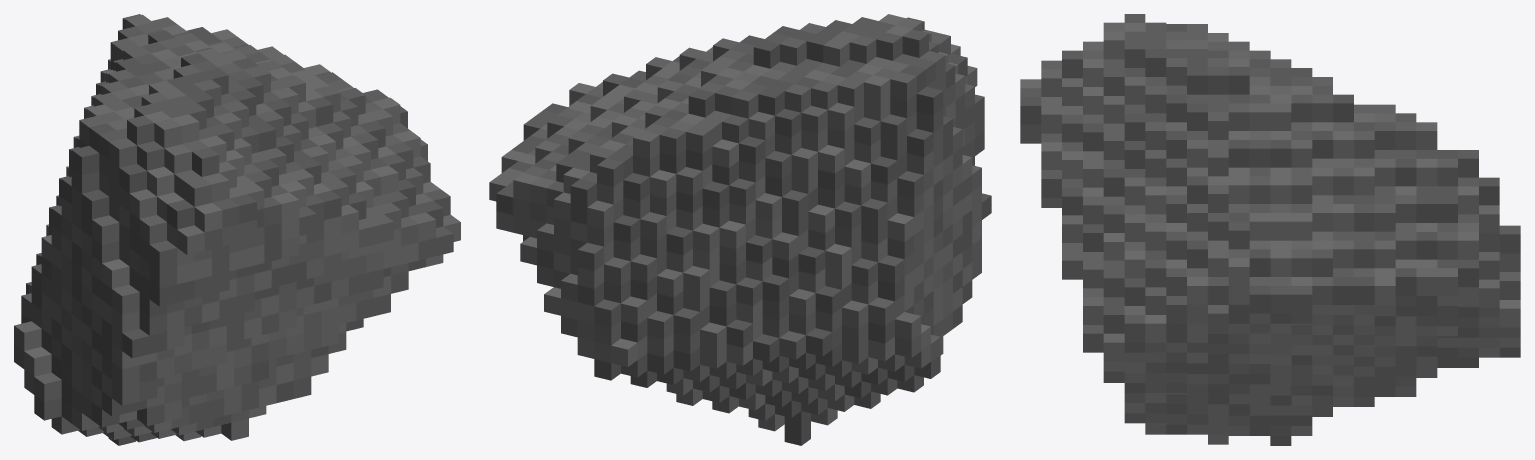
File: Asteroid_A6.fbx
The picture shows the model from 3 angles, left to right: view 1: azimuth 30°, elevation 25°; view 2: azimuth 150°, elevation 25°; view 3: azimuth 270°, elevation 25°; orthographic projection. The views are drawn at different scales.
Parts seen in each view (by area): view 1: T1-5; view 2: T1-5; view 3: T1-5.
Boxes of the visible parts, <box> form: T1-5: <box>14,14,460,445</box>; T1-5: <box>489,14,991,445</box>; T1-5: <box>1020,14,1520,445</box>.
Size of the model in its own units: 220 by 210 by 240.
